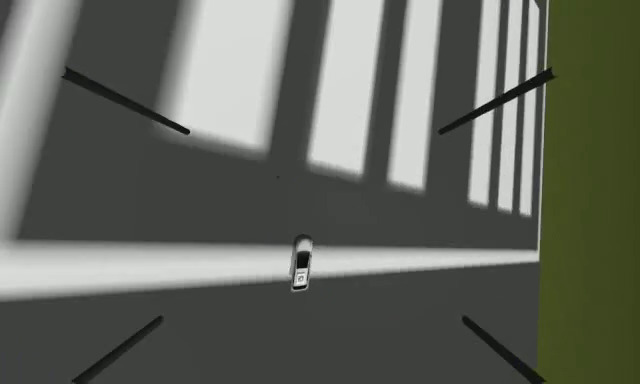Car: (289, 238, 315, 292)
